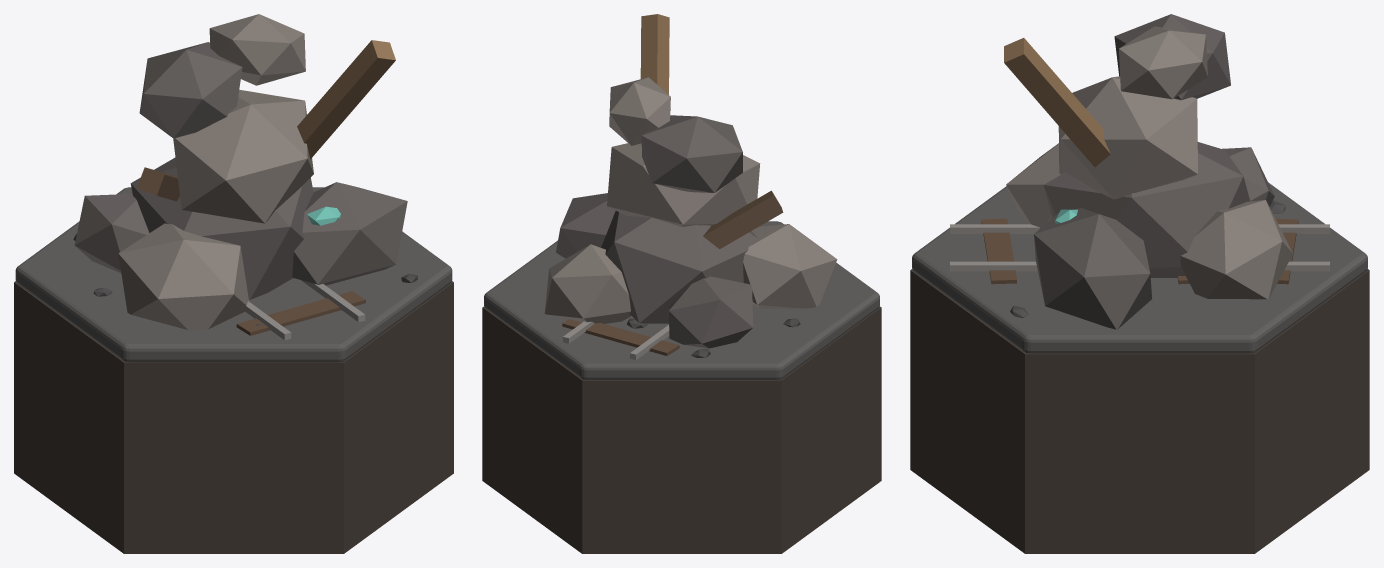
The model's file is hex_rubble.glb.
3 views of the same model, side by side, from view 1: azimuth 30°, elevation 25°; view 2: azimuth 150°, elevation 25°; view 3: azimuth 270°, elevation 25° (orthographic). The views are drawn at different scales.
Parts seen in each view (by area): view 1: hex_rubble; view 2: hex_rubble; view 3: hex_rubble.
Part boxes in pixels (x1,y1,x2,y2): hex_rubble: (14, 14, 453, 553); hex_rubble: (482, 14, 881, 553); hex_rubble: (910, 14, 1369, 553).
Size of the model in its own units: 1.7 by 2.23 by 1.96.
